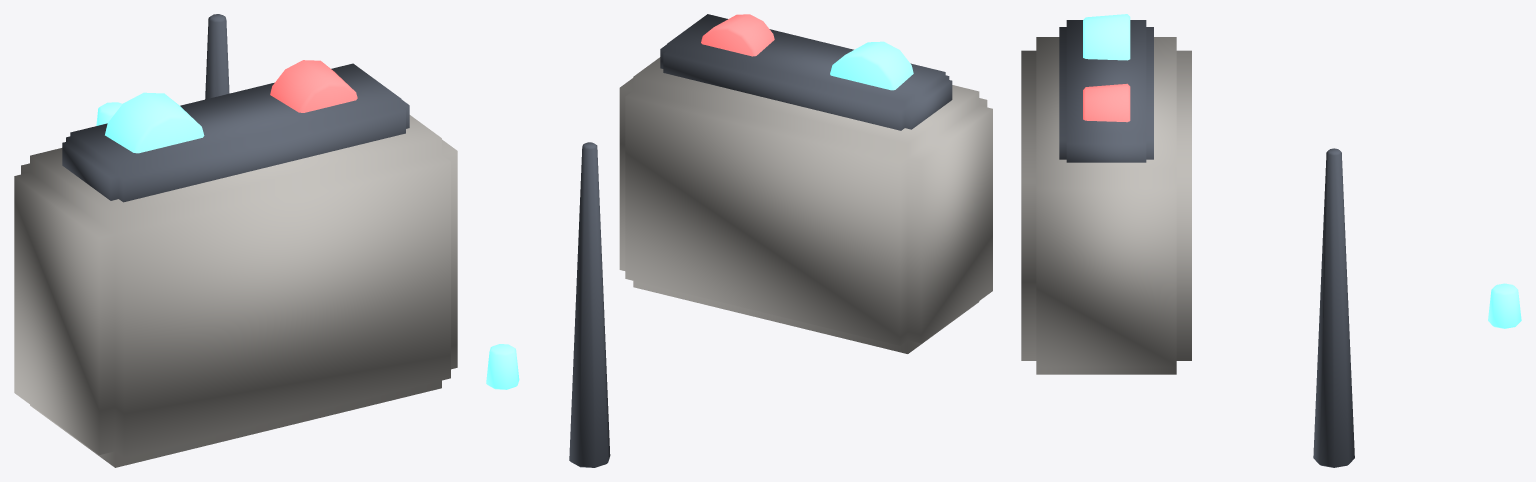
File: sensor.glb
3 views of the same model, side by side, from view 1: azimuth 30°, elevation 25°; view 2: azimuth 150°, elevation 25°; view 3: azimuth 270°, elevation 25° (orthographic). The views are drawn at different scales.
Parts seen in each view (by area): view 1: sensor; view 2: sensor; view 3: sensor.
Part boxes in pixels (x1,y1,x2,y2): sensor: (14,14,457,467); sensor: (486,14,992,467); sensor: (1021,14,1521,467).
Bounding box in the file's own units: 0.36 × 0.4218 × 0.5278.
